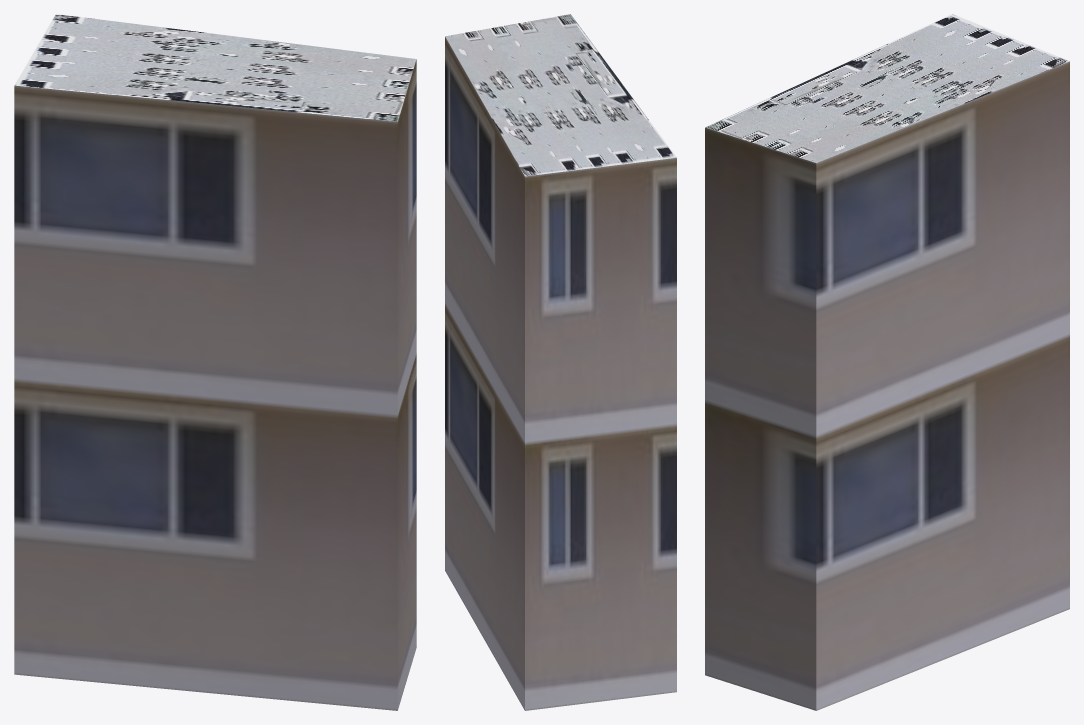
Rendered from ResTex__3573.fbx.
3 renders of one model, left to right at view 1: azimuth 30°, elevation 25°; view 2: azimuth 150°, elevation 25°; view 3: azimuth 270°, elevation 25°, orthographic. The views are drawn at different scales.
Parts seen in each view (by area): view 1: CityEngineMaterial_21_m, CityEngineMaterial_m; view 2: CityEngineMaterial_21_m, CityEngineMaterial_m; view 3: CityEngineMaterial_21_m, CityEngineMaterial_m.
Part boxes in pixels (x1,y1,x2,y2): CityEngineMaterial_21_m: (14,59,416,710); CityEngineMaterial_m: (14,14,416,121); CityEngineMaterial_21_m: (445,37,676,710); CityEngineMaterial_m: (445,14,676,176); CityEngineMaterial_21_m: (705,61,1069,710); CityEngineMaterial_m: (705,14,1069,162).
Size of the model in its own units: 3.51 by 6 by 3.62.
2 materials, 2 textured.
